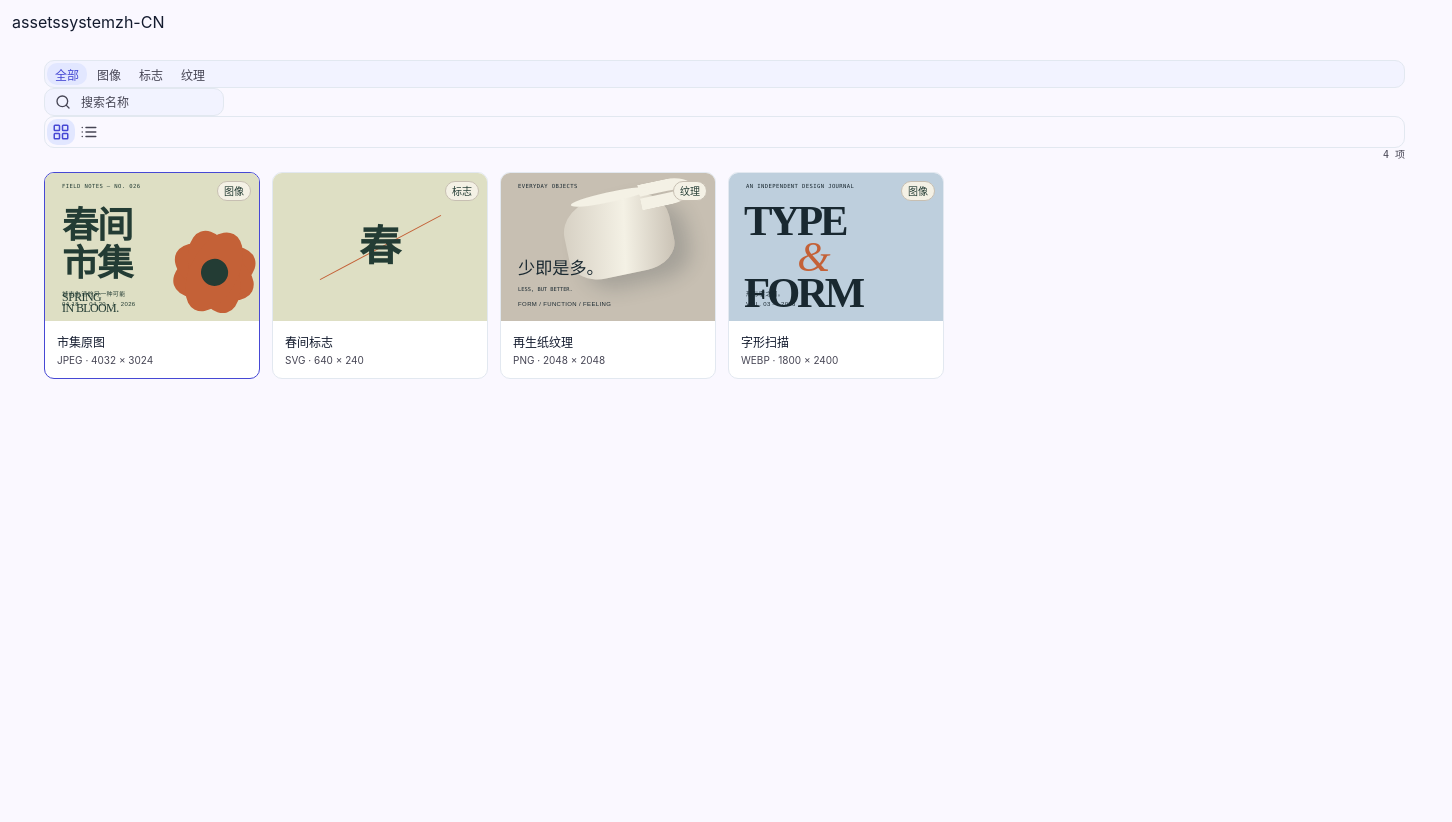
Test: wraps an empty asset search result in the page-level empty-state region
The width and height of the screenshot is (1452, 822).
In the search field named "搜索素材": coordinates (146, 102) 79,94 -> 213,110, type "不存在的素材"
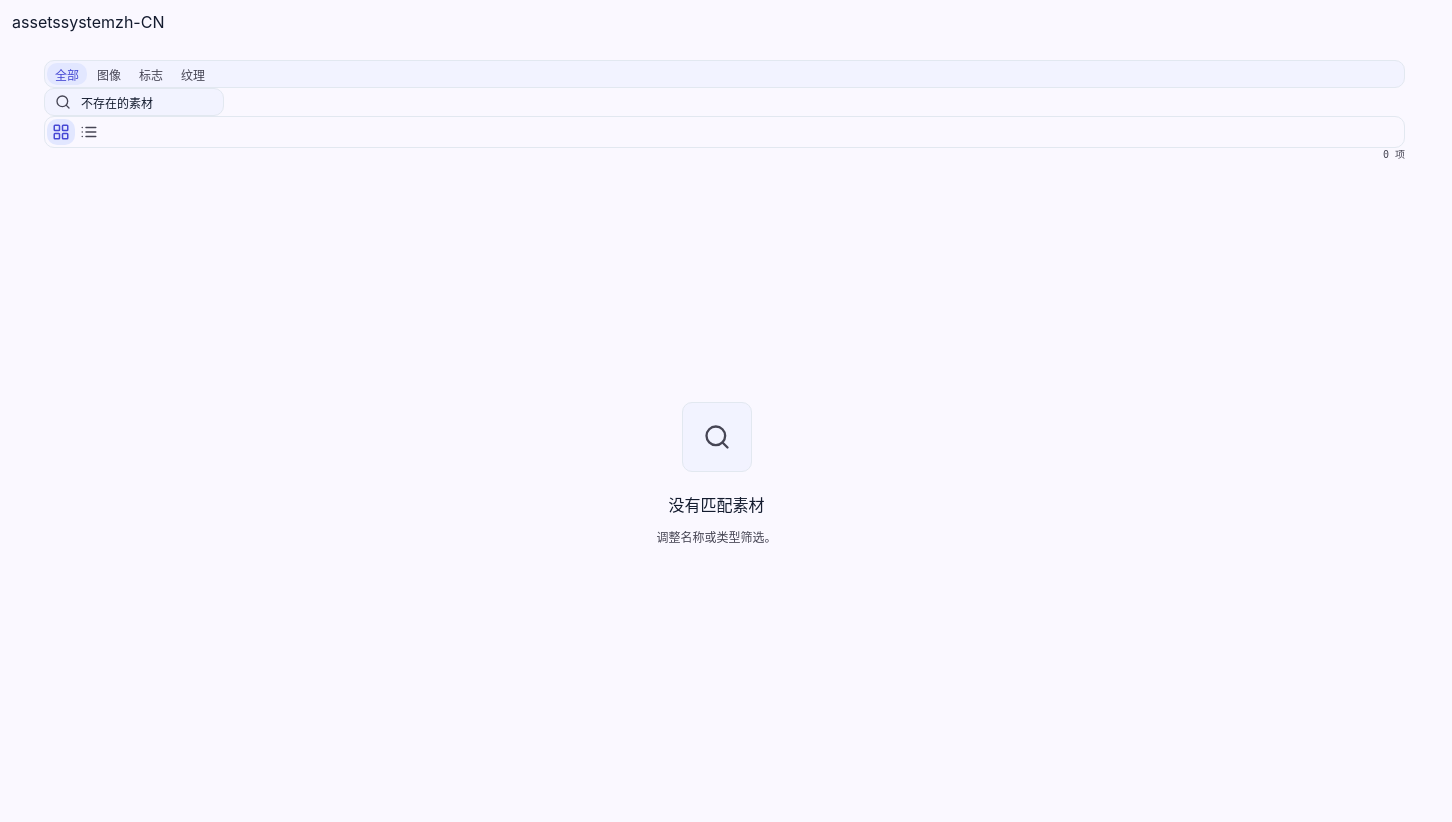
Check: the element "没有匹配素材" is shown, box 656,402 -> 776,545
